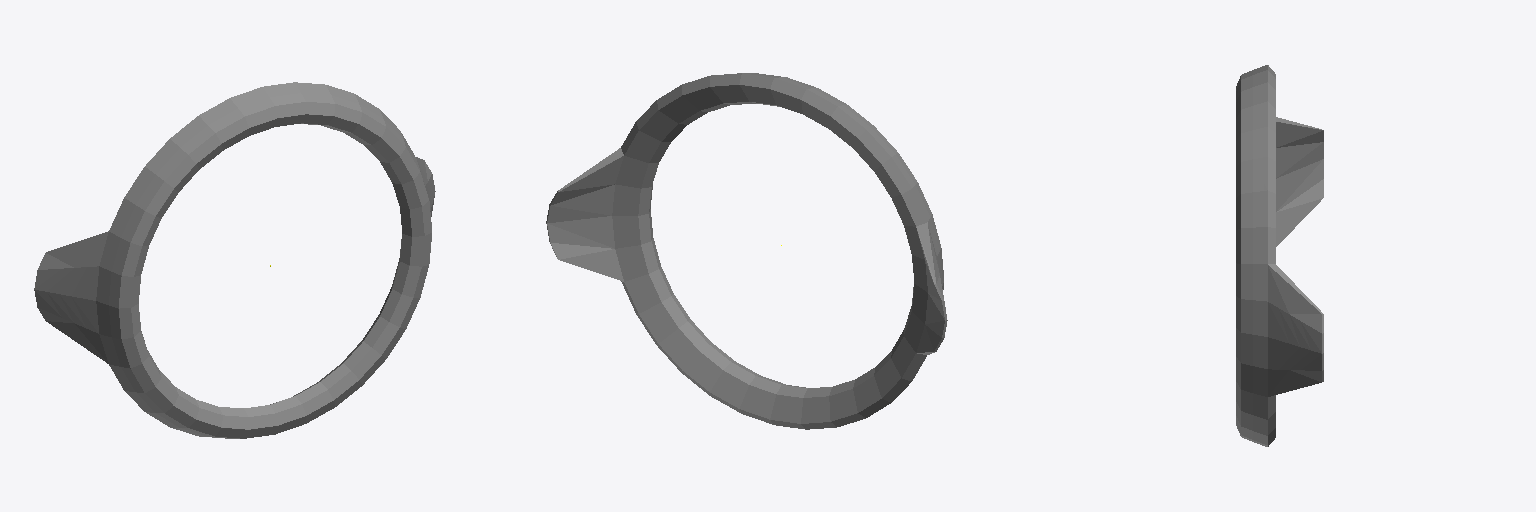
The model's file is mis_obj_TailsDashring_HD.obj.
3 views of the same model, side by side, from view 1: azimuth 30°, elevation 25°; view 2: azimuth 150°, elevation 25°; view 3: azimuth 270°, elevation 25° (orthographic).
Visible parts, largest first — view 1: mis_obj_TailsDashring_light2, mis_obj_TailsDashring_body, mis_obj_TailsDashring_light1, mis_obj_TailsDashring_light3; view 2: mis_obj_TailsDashring_body, mis_obj_TailsDashring_light2; view 3: mis_obj_TailsDashring_body, mis_obj_TailsDashring_light2, mis_obj_TailsDashring_light1.
Part boxes in pixels (bbox=[...]): mis_obj_TailsDashring_light2: bbox=[109, 93, 431, 438]; mis_obj_TailsDashring_body: bbox=[34, 82, 434, 438]; mis_obj_TailsDashring_light1: bbox=[59, 108, 432, 417]; mis_obj_TailsDashring_light3: bbox=[34, 179, 435, 322]; mis_obj_TailsDashring_body: bbox=[546, 73, 947, 429]; mis_obj_TailsDashring_light2: bbox=[638, 73, 943, 397]; mis_obj_TailsDashring_body: bbox=[1253, 65, 1323, 446]; mis_obj_TailsDashring_light2: bbox=[1236, 70, 1252, 441]; mis_obj_TailsDashring_light1: bbox=[1255, 179, 1299, 436].
Bounding box in the file's own units: 131 × 109 × 24.81.